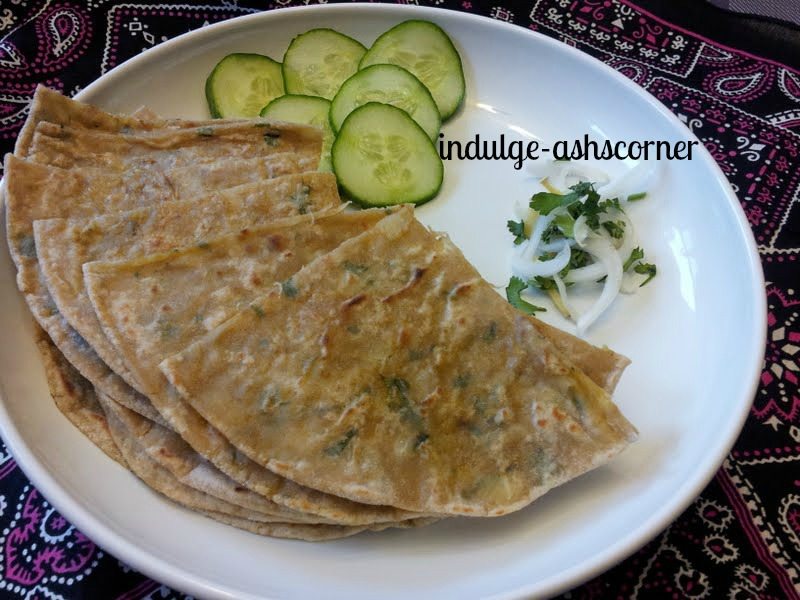aloo_paratha: (3, 90, 645, 546)
